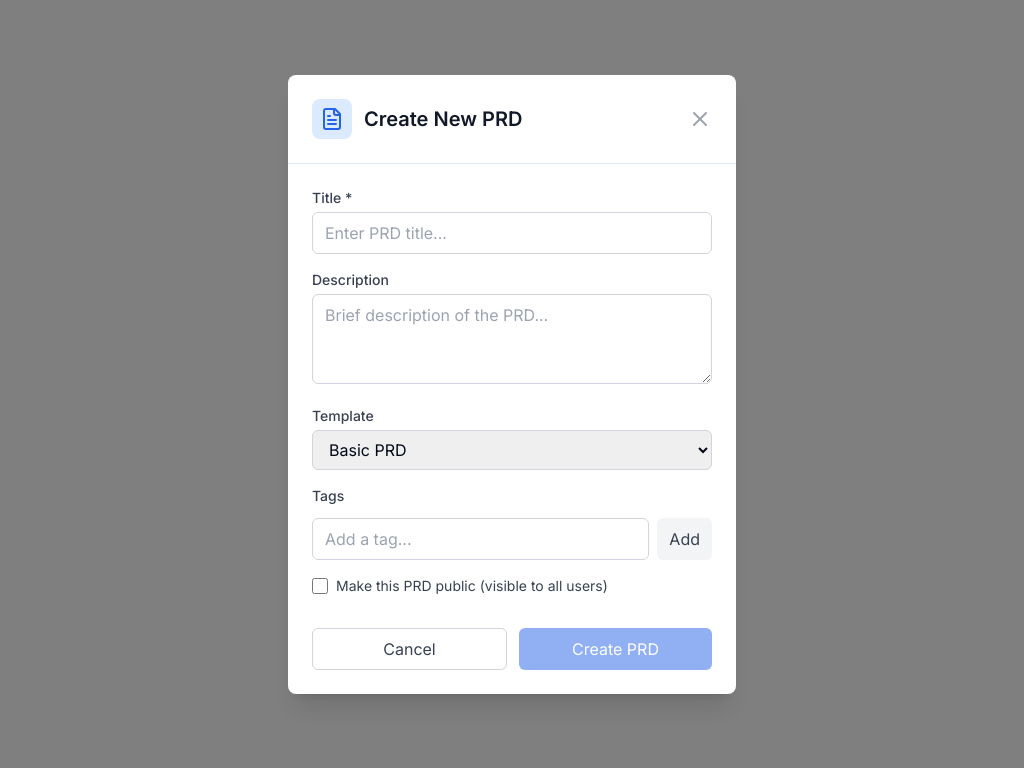
it: CreatePRDModal › adds and removes tags correctly
# Add first tag
Type "frontend" into the field with placeholder "Add a tag..." at coordinates (481, 538), box [312,518,649,560]
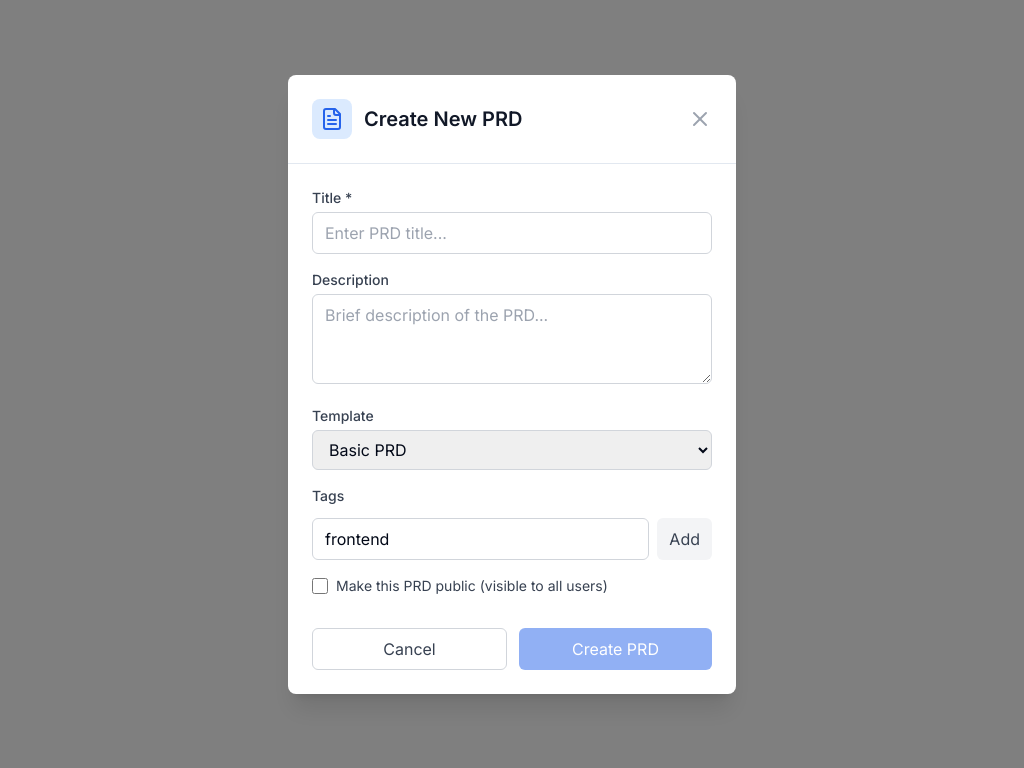
Click the button "Add" at coordinates (685, 538), box [657,518,712,560]
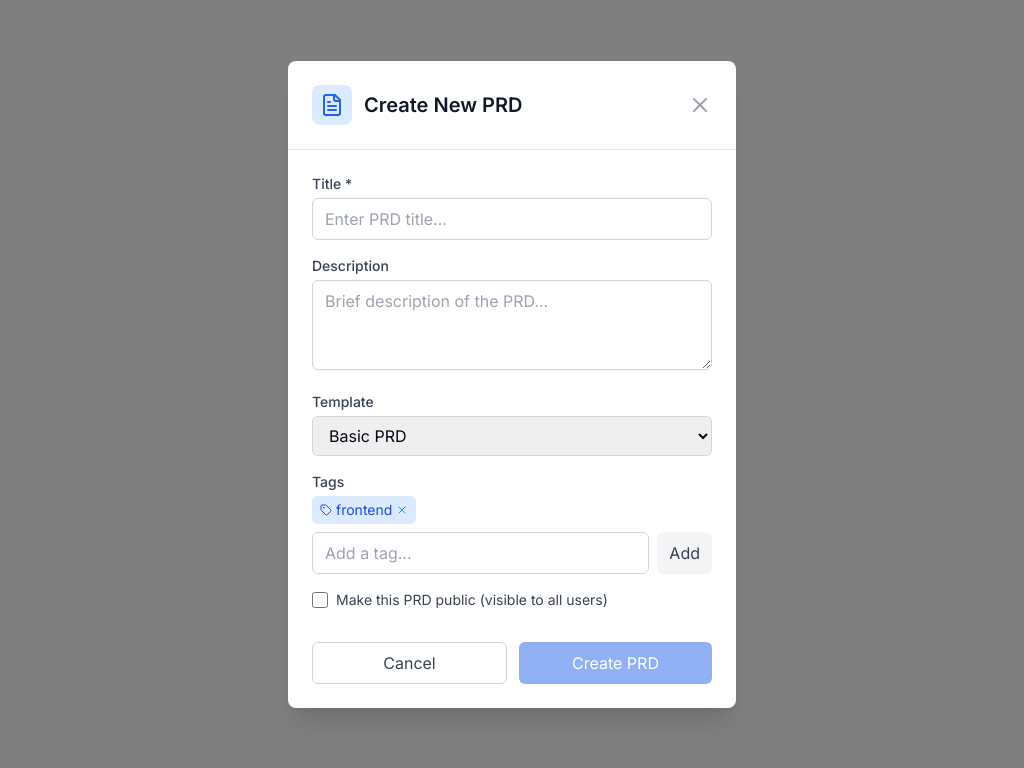
Result: the text "frontend" is shown at [312,496,416,524]
Result: the field with placeholder "Add a tag..." is empty
# Add second tag
Type "react" into the field with placeholder "Add a tag..." at coordinates (481, 552), box [312,532,649,574]
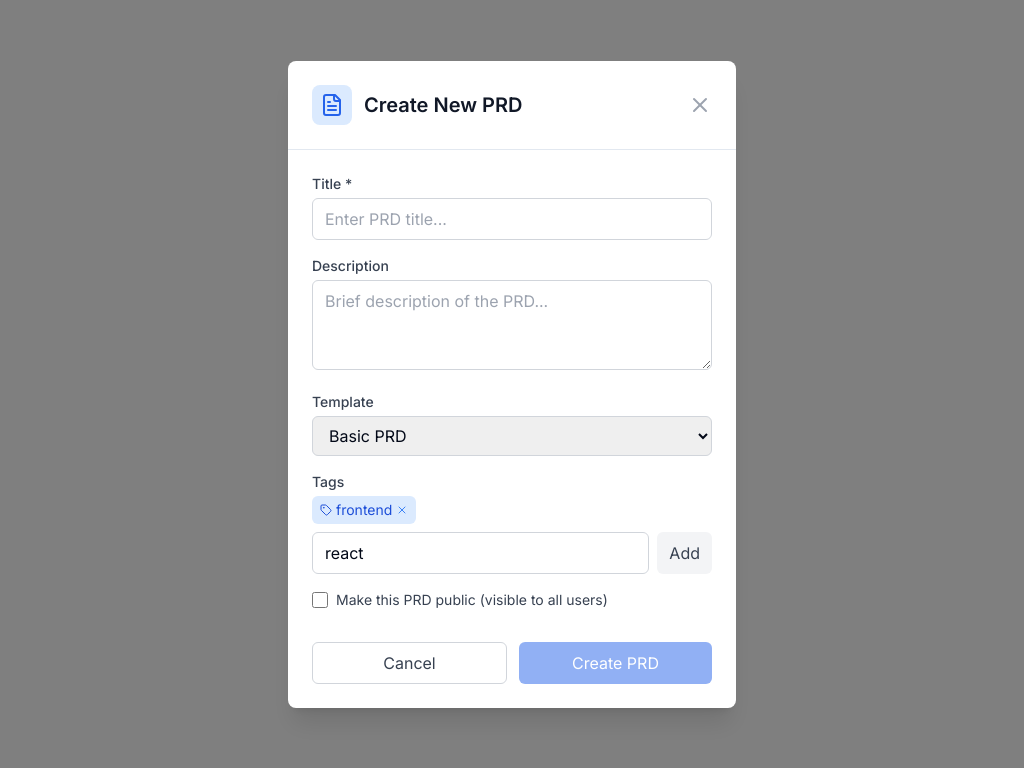
Click the button "Add" at coordinates (685, 552), box [657,532,712,574]
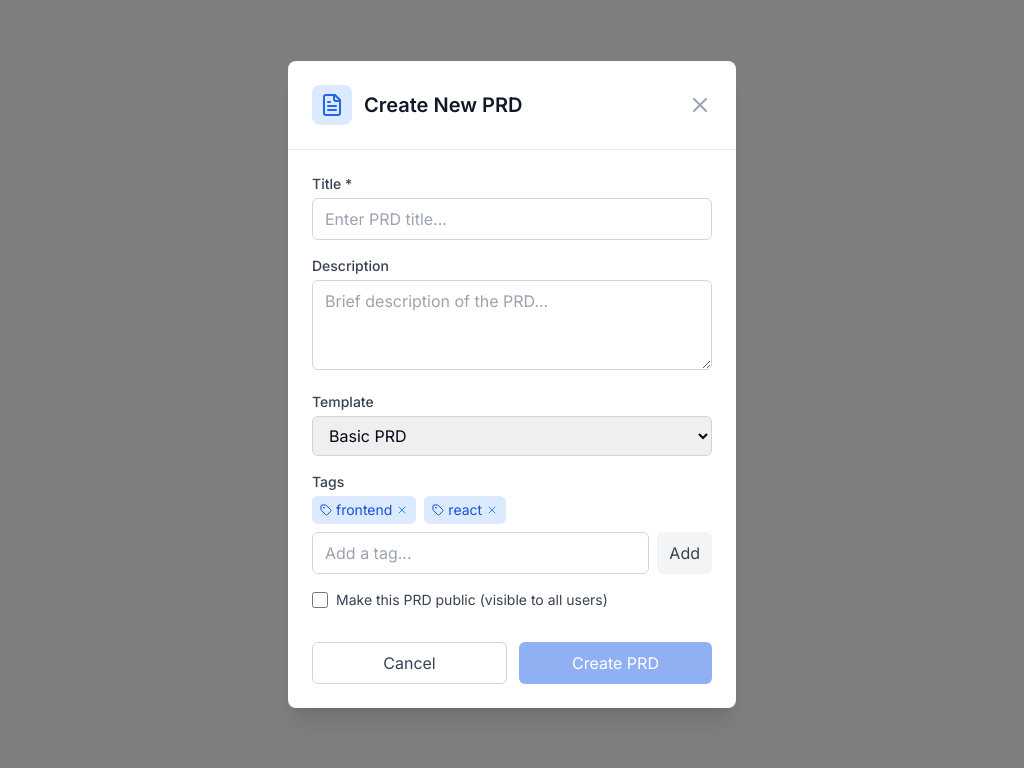
Result: the text "react" is shown at [424,496,506,524]
# Remove first tag
Click the button named "Remove frontend tag" at coordinates (402, 510), box [396,504,408,516]
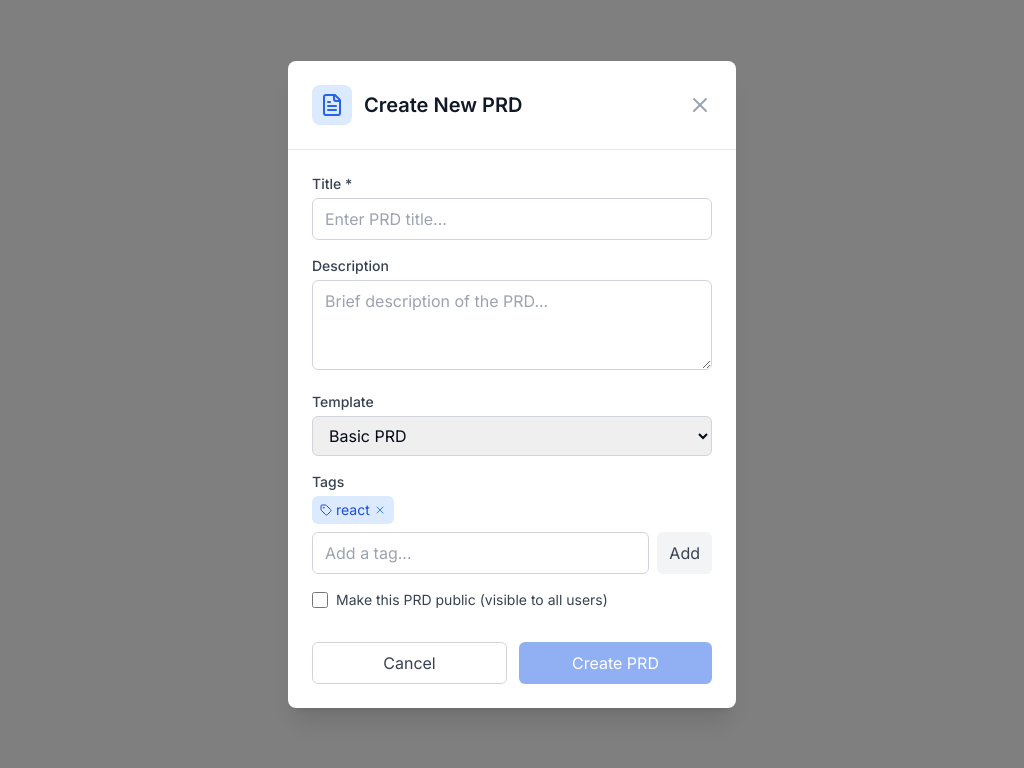
Result: the text "react" is shown at [312,496,394,524]
Result: the text "frontend" is gone
